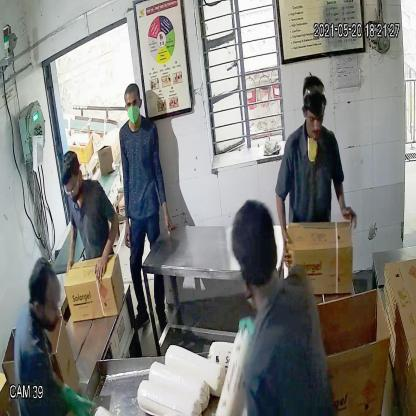no_goggles: (301, 104, 325, 127), (122, 97, 142, 112)
